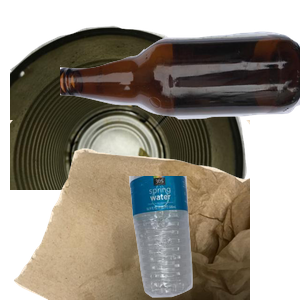glass: (60, 29, 300, 141)
metal: (10, 23, 250, 203)
plastic: (127, 176, 300, 300)
trash: (10, 120, 250, 300)
